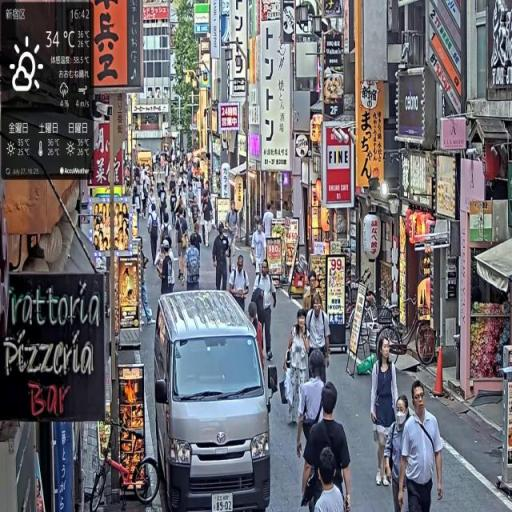person: (303, 384, 354, 512), (399, 380, 445, 512), (296, 351, 329, 509), (371, 335, 401, 491), (384, 394, 412, 512), (285, 310, 311, 426), (253, 260, 279, 363), (306, 292, 331, 384), (212, 223, 233, 294), (230, 256, 251, 313), (157, 238, 177, 295), (177, 209, 191, 286), (227, 200, 241, 272)
